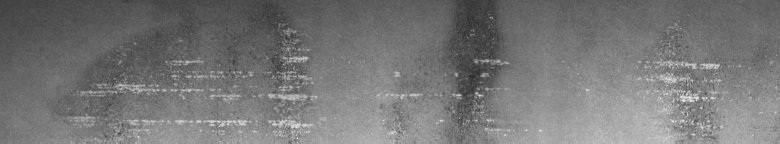hc: (391, 14, 509, 131)
